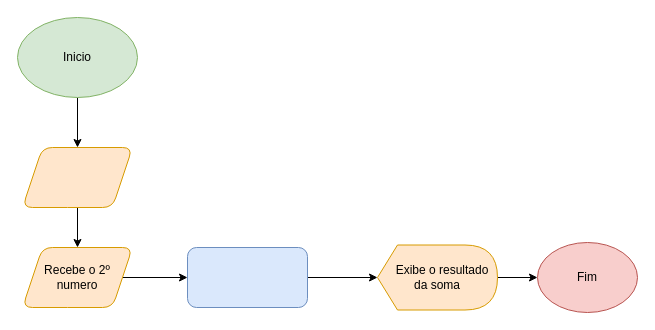
This 655x330 diagram has some shape labels left out. The centre of each missing label's shape, as x and y in pixels:
Realizar soma dos nº obtidos: pixel 247 277
Recebe o 1º numero: pixel 77 177
